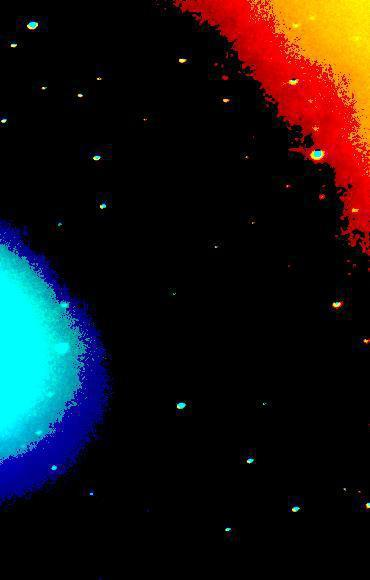star: (306, 251, 336, 281)
